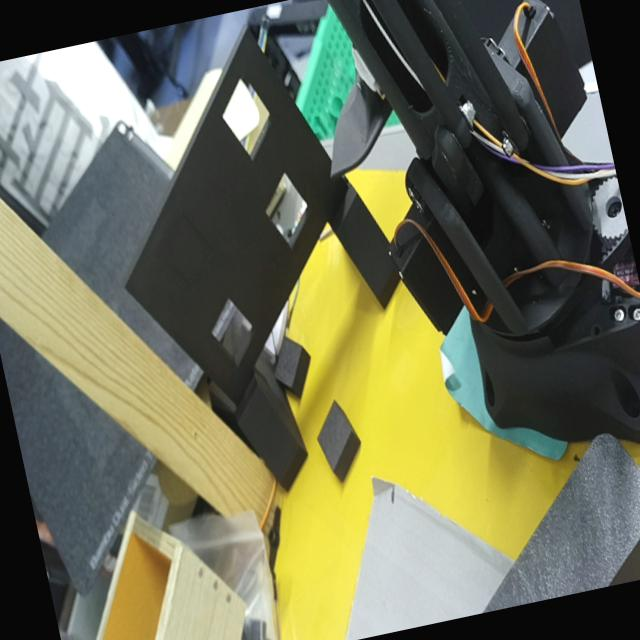Obstacle: (221, 69, 271, 155), (264, 173, 308, 245), (213, 297, 253, 363)
Wall: (124, 29, 342, 404)
